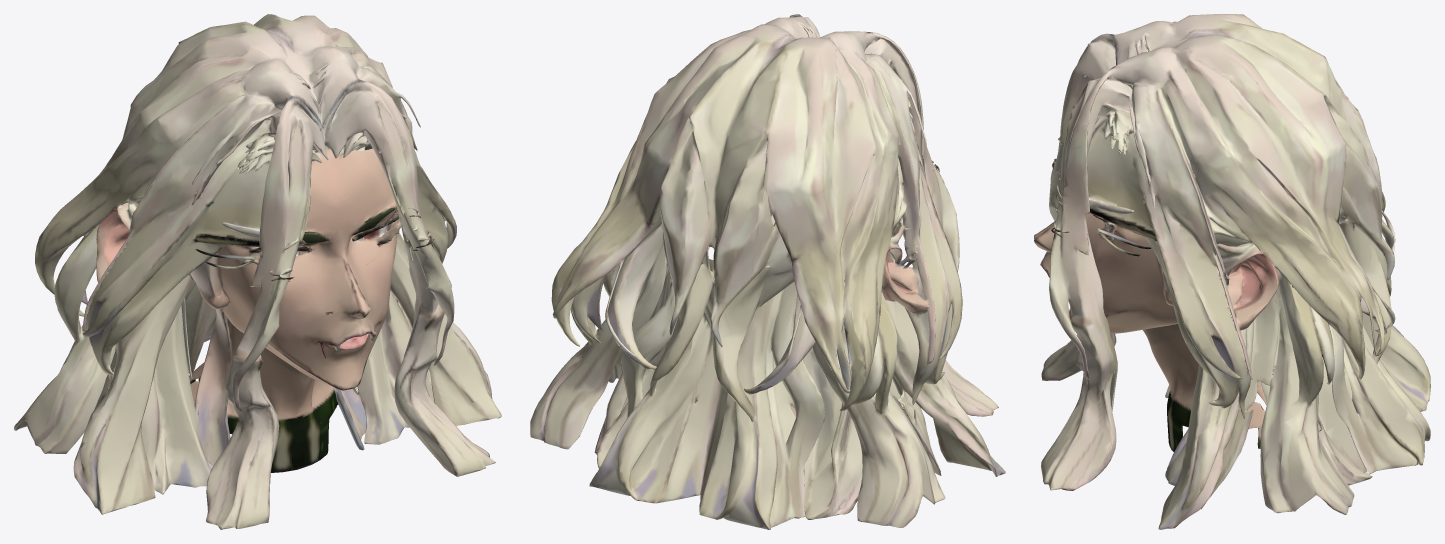
Rendered from head6_s11_pixal3d.glb.
The picture shows the model from 3 angles, left to right: view 1: azimuth 30°, elevation 25°; view 2: azimuth 150°, elevation 25°; view 3: azimuth 270°, elevation 25°; orthographic projection. The views are drawn at different scales.
Size of the model in its own units: 0.9707 by 0.9522 by 0.8292.
1 material, 1 textured.
